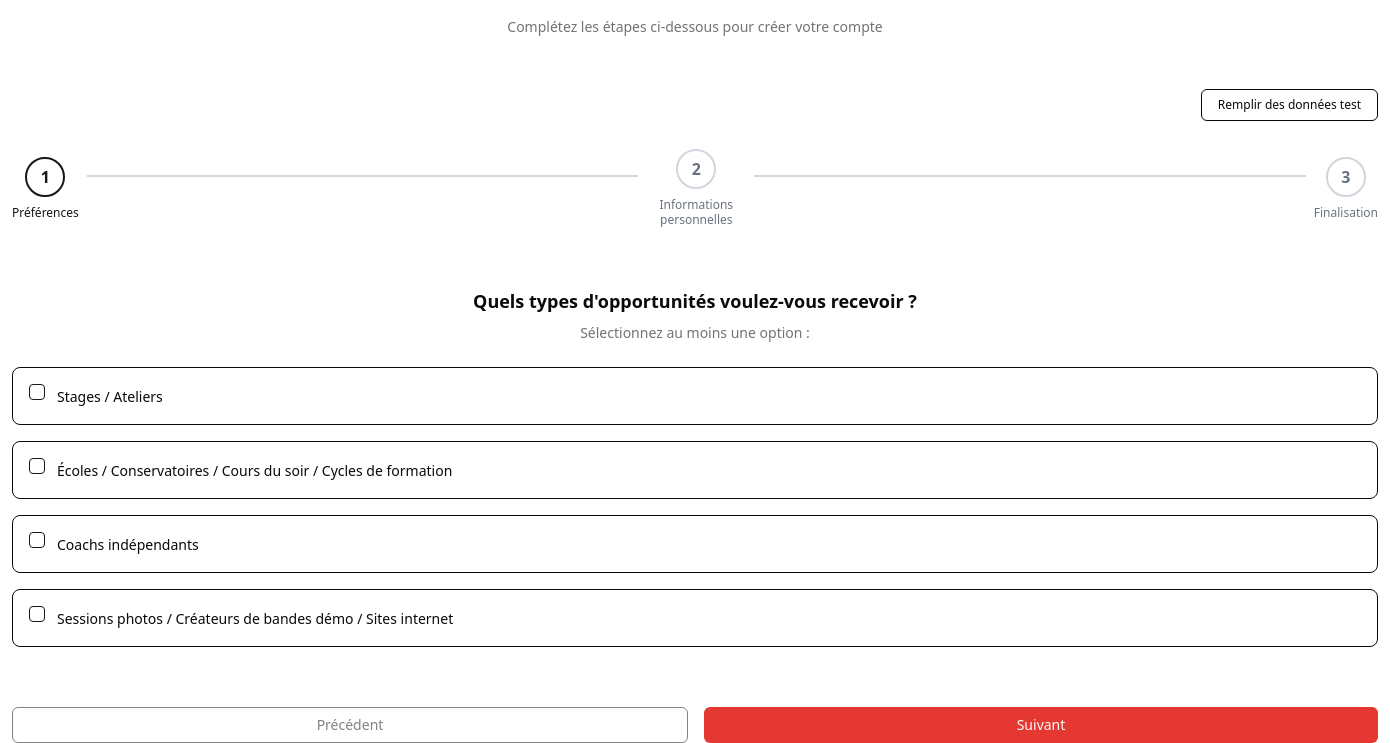
ComedianSignupForm › Validation - Étape 1 › devrait afficher une erreur si aucune préférence n'est sélectionnée
Click the button "Suivant": (1041, 725) [704, 707, 1378, 742]
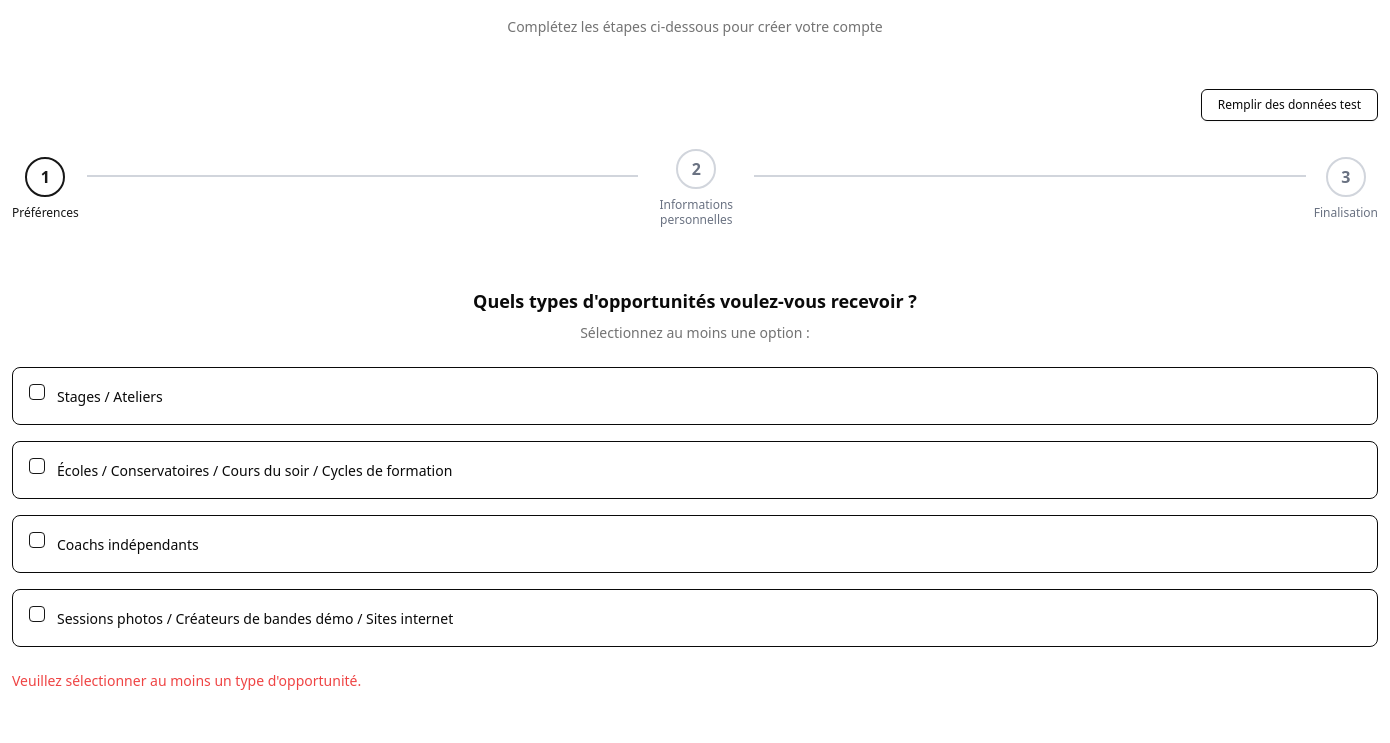
Now the text "Veuillez sélectionner au moins un type d'opportunité." is shown, box [12, 671, 361, 690]
